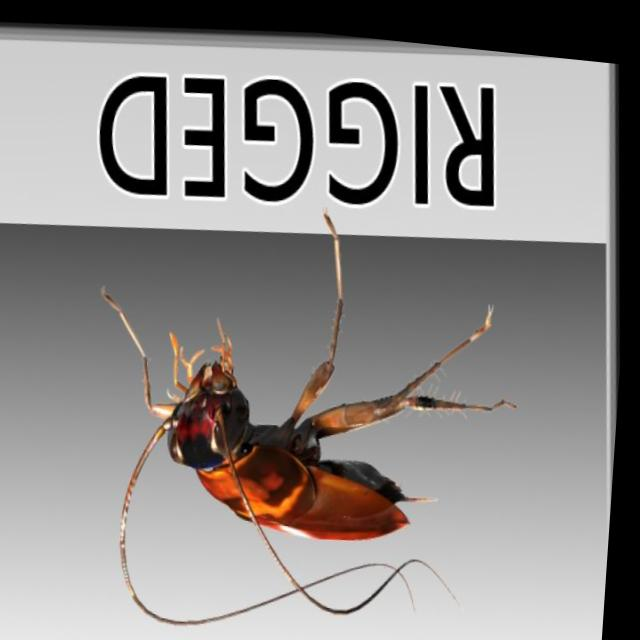Cockroach: (78, 208, 552, 640)
